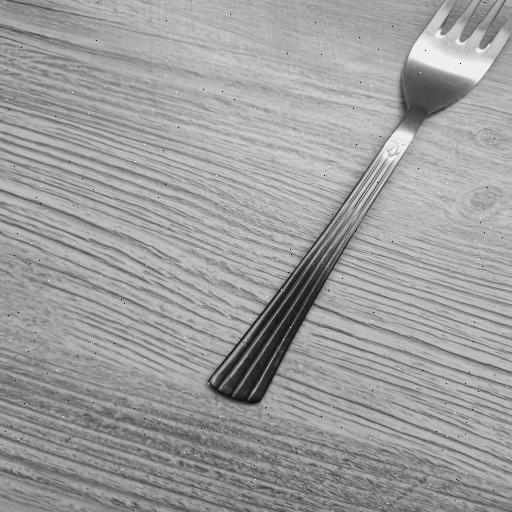fork: (202, 0, 512, 406)
